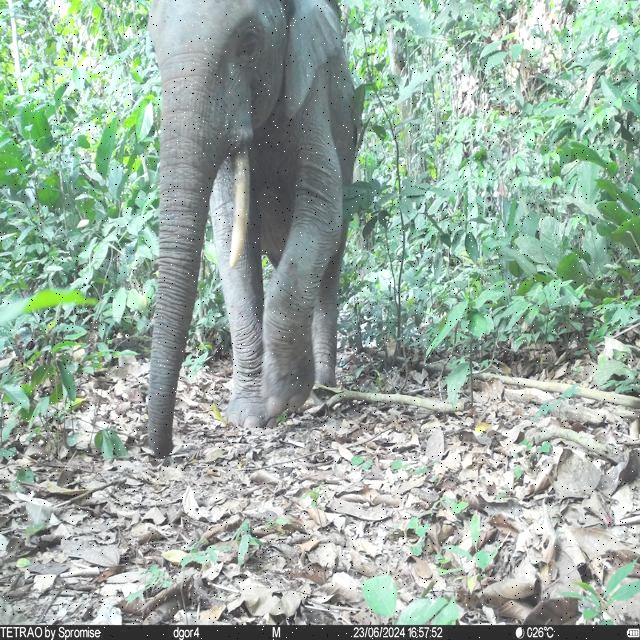ear: (285, 41, 340, 125)
elephant: (136, 0, 370, 458)
tusk: (230, 146, 250, 274)
